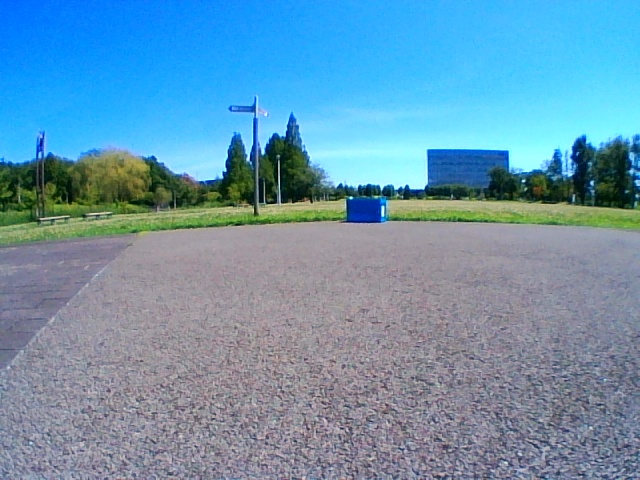blue_box: (346, 197, 386, 223)
tag: (380, 206, 383, 216)
